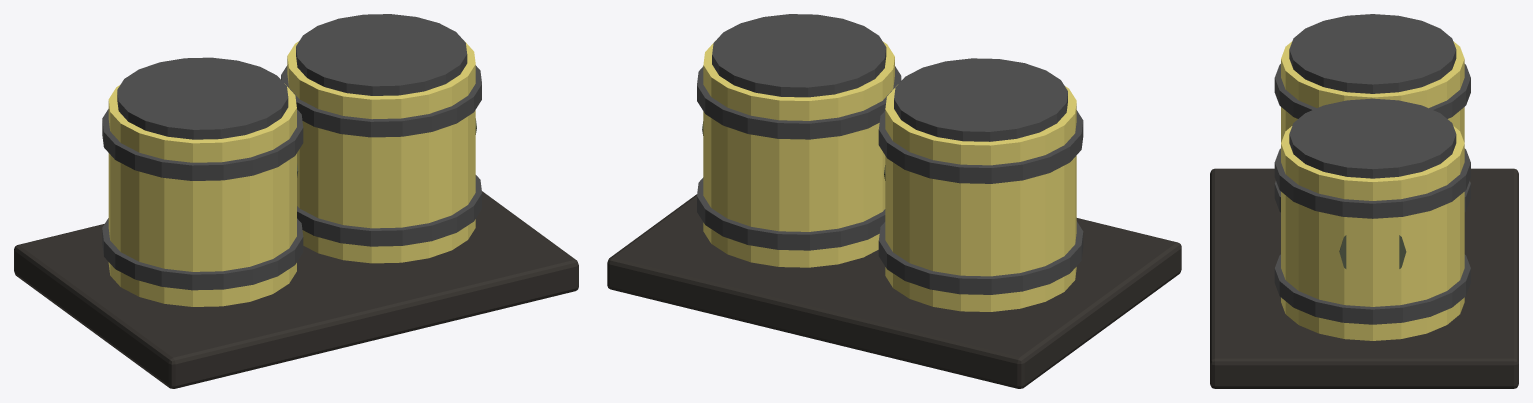
Rendered from uranium.glb.
The picture shows the model from 3 angles, left to right: view 1: azimuth 30°, elevation 25°; view 2: azimuth 150°, elevation 25°; view 3: azimuth 270°, elevation 25°; orthographic projection. The views are drawn at different scales.
Visible parts, largest first — view 1: uranium-black-pallet, uranium-drum-0, uranium-drum-1, uranium-lid-0, uranium-lid-1, uranium-hoop-top-0, uranium-hoop-bot-0, uranium-hoop-top-1, uranium-hoop-bot-1; view 2: uranium-black-pallet, uranium-drum-0, uranium-drum-1, uranium-lid-1, uranium-lid-0, uranium-hoop-top-0, uranium-hoop-bot-0, uranium-hoop-top-1, uranium-hoop-bot-1; view 3: uranium-black-pallet, uranium-drum-1, uranium-lid-0, uranium-lid-1, uranium-hoop-top-1, uranium-hoop-bot-1, uranium-drum-0, uranium-hoop-top-0, uranium-badge-1, uranium-hoop-bot-0.
Boxes of the visible parts, box(x1,y1,x2,y2) form: uranium-black-pallet: box(14, 191, 578, 388); uranium-drum-0: box(108, 83, 296, 306); uranium-drum-1: box(287, 41, 475, 263); uranium-lid-0: box(117, 57, 288, 139); uranium-lid-1: box(296, 14, 467, 95); uranium-hoop-top-0: box(102, 109, 303, 180); uranium-hoop-bot-0: box(102, 218, 303, 290); uranium-hoop-top-1: box(281, 65, 481, 137); uranium-hoop-bot-1: box(297, 175, 481, 246); uranium-black-pallet: box(607, 194, 1181, 388); uranium-drum-0: box(885, 85, 1076, 311); uranium-drum-1: box(703, 40, 894, 267); uranium-lid-1: box(712, 14, 886, 97); uranium-lid-0: box(894, 58, 1067, 141); uranium-hoop-top-0: box(878, 110, 1083, 183); uranium-hoop-bot-0: box(878, 221, 1083, 294); uranium-hoop-top-1: box(697, 66, 901, 139); uranium-hoop-bot-1: box(697, 177, 885, 250); uranium-black-pallet: box(1210, 168, 1518, 388); uranium-drum-1: box(1281, 126, 1464, 340); uranium-lid-0: box(1289, 14, 1456, 93); uranium-lid-1: box(1289, 98, 1456, 178); uranium-hoop-top-1: box(1274, 148, 1470, 218); uranium-hoop-bot-1: box(1274, 254, 1470, 324); uranium-drum-0: box(1281, 41, 1464, 142); uranium-hoop-top-0: box(1274, 64, 1470, 118); uranium-badge-1: box(1339, 235, 1406, 268); uranium-hoop-bot-0: box(1274, 181, 1470, 212).
Size of the model in its own units: 1.18 by 0.5739 by 0.7938.
